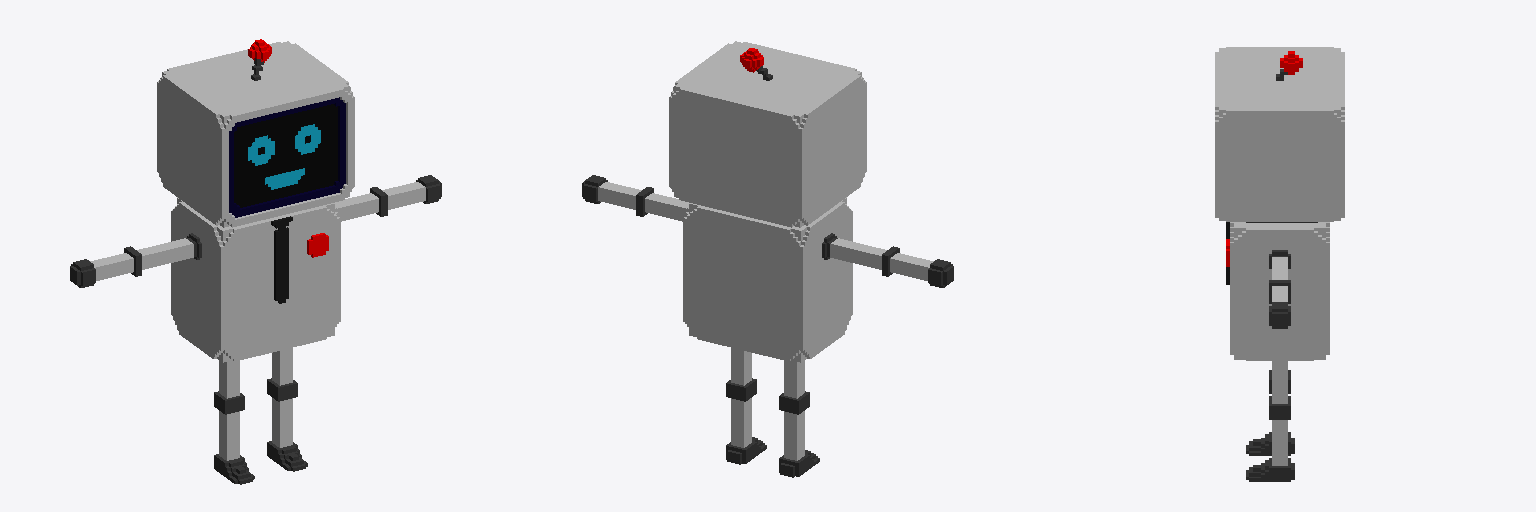
The picture shows the model from 3 angles: view 1: azimuth 30°, elevation 25°; view 2: azimuth 150°, elevation 25°; view 3: azimuth 270°, elevation 25°; orthographic projection.
Visible parts, largest first — view 1: object 1; view 2: object 1; view 3: object 1.
Boxes of the visible parts, box(x1,y1,x2,y2) form: object 1: box(70, 39, 441, 484); object 1: box(582, 41, 953, 477); object 1: box(1215, 47, 1344, 481).
Size of the model in its own units: 11 by 12 by 3.4.
Materials: 1 (1 with a texture image).